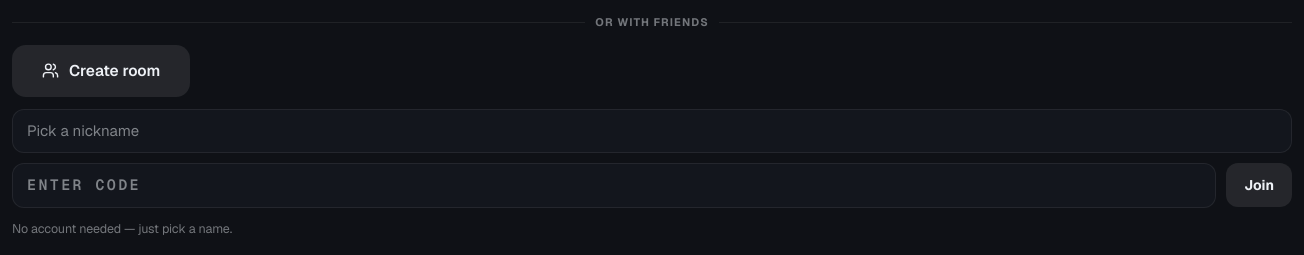
Test: FriendsRoomEntry — guest join › explains a rejected nickname (400) without naming the reason
Type "xx" into the field with placeholder "Pick a nickname" at (652, 131), box [12, 108, 1292, 153]
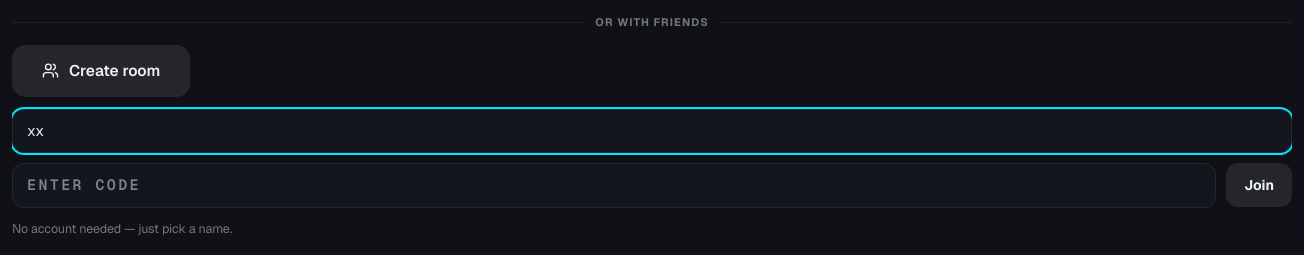
Type "ABC12" into the field with placeholder "Enter code" at (614, 185), box [12, 163, 1216, 208]
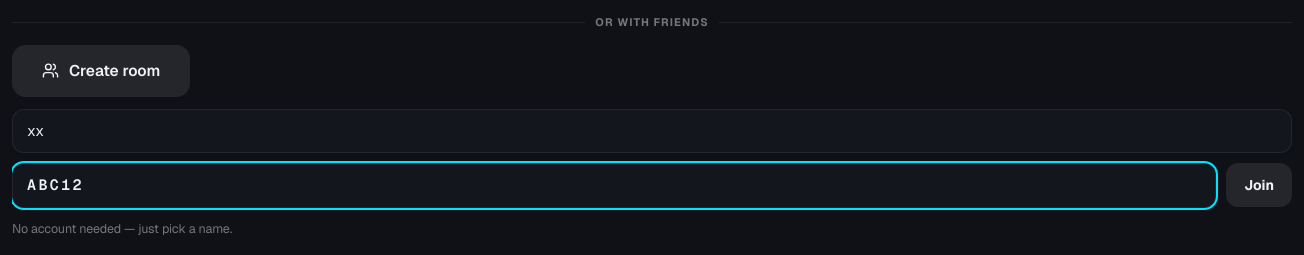
Click the button "Join" at (1259, 185), box [1226, 163, 1292, 207]
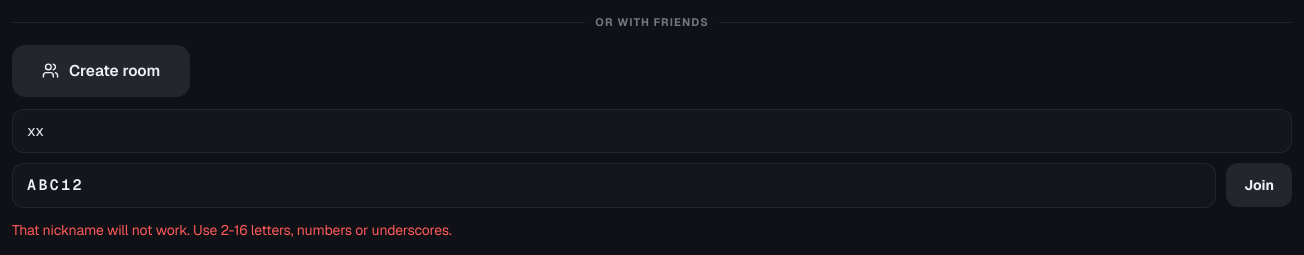
Expected: the text "That nickname will not work. Use 2-16 letters, numbers or underscores." is shown, [12, 220, 452, 238]
